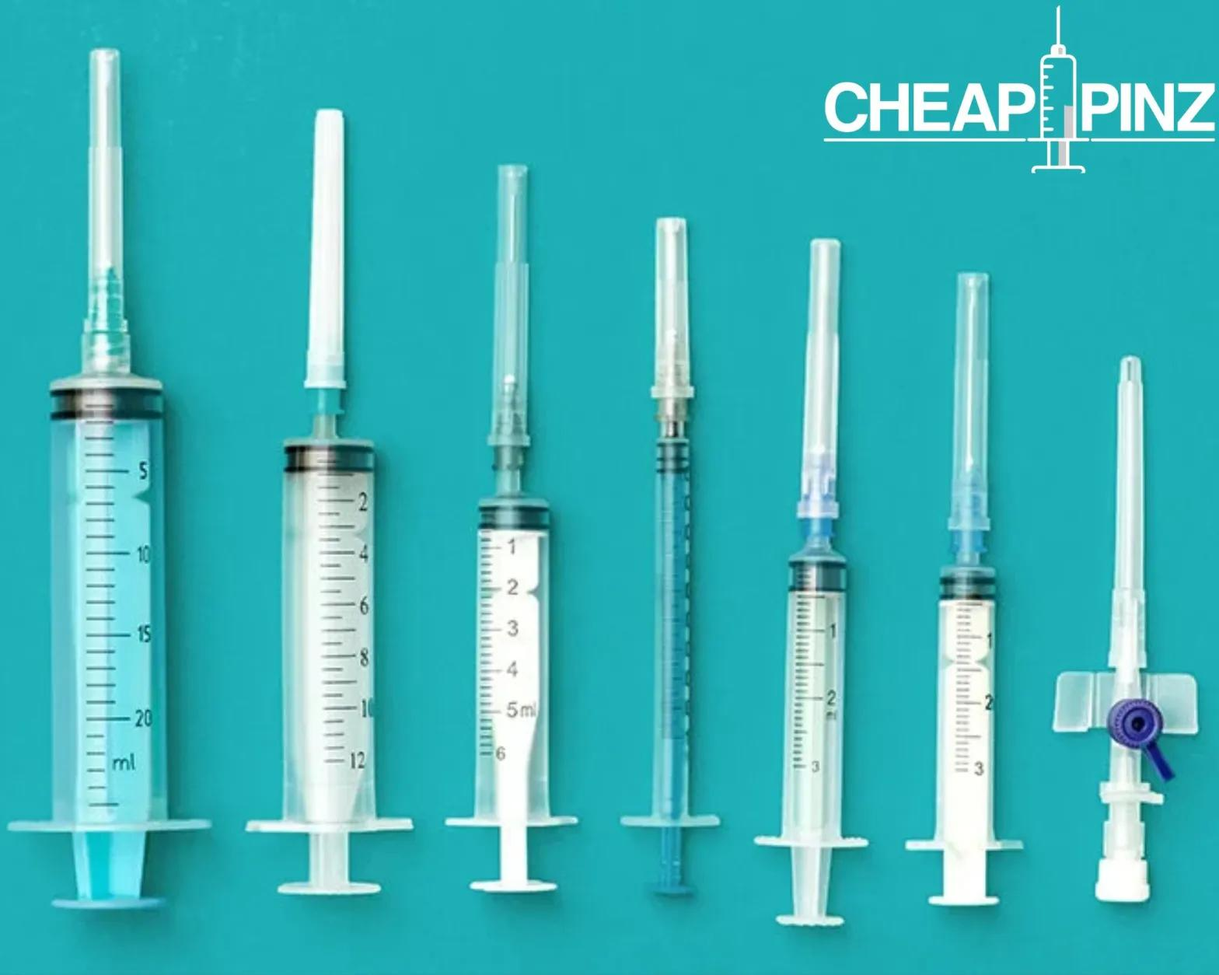Syringe: (10, 50, 208, 907), (247, 110, 411, 894), (446, 166, 575, 892), (1053, 357, 1197, 901), (756, 239, 866, 925), (906, 273, 1022, 905), (621, 218, 718, 894)
